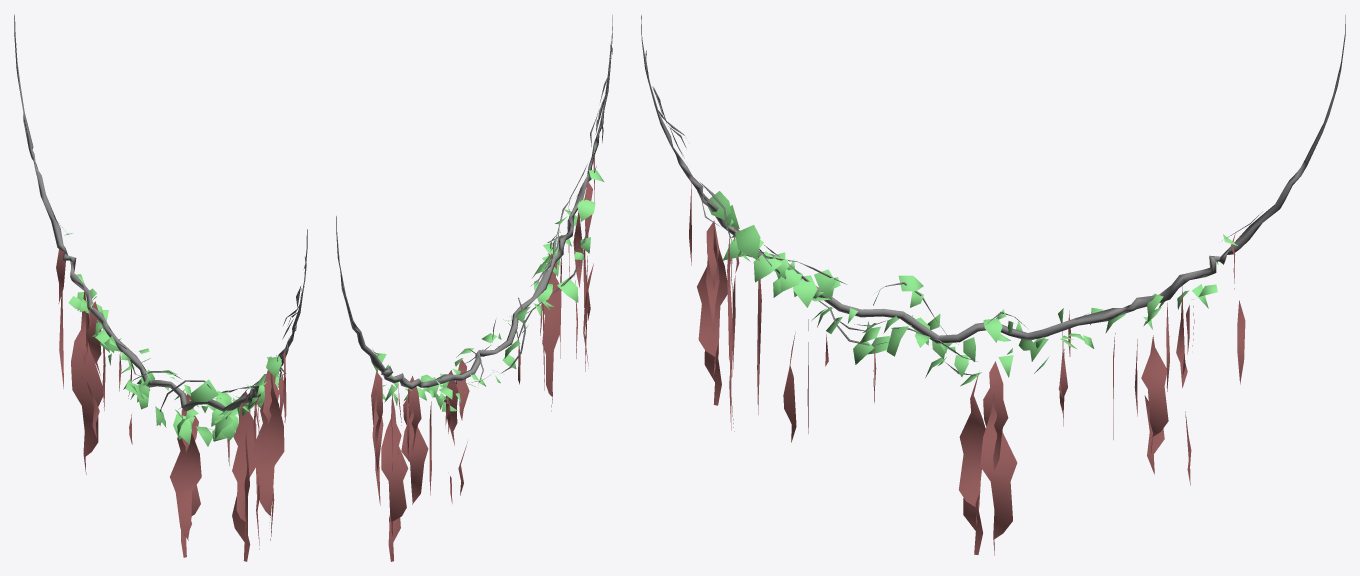
The model's file is SM_vines_lianas_jungle_large_A.gltf.
The picture shows the model from 3 angles, left to right: view 1: azimuth 30°, elevation 25°; view 2: azimuth 150°, elevation 25°; view 3: azimuth 270°, elevation 25°; orthographic projection. The views are drawn at different scales.
Parts seen in each view (by area): view 1: SM_vines_lianas_jungle_large_A; view 2: SM_vines_lianas_jungle_large_A; view 3: SM_vines_lianas_jungle_large_A.
Boxes of the visible parts, x1,y1,x2,y2 form: SM_vines_lianas_jungle_large_A: [14, 14, 307, 561]; SM_vines_lianas_jungle_large_A: [336, 15, 612, 561]; SM_vines_lianas_jungle_large_A: [641, 15, 1345, 555].
Size of the model in its own units: 5.35 by 31.88 by 38.19.
